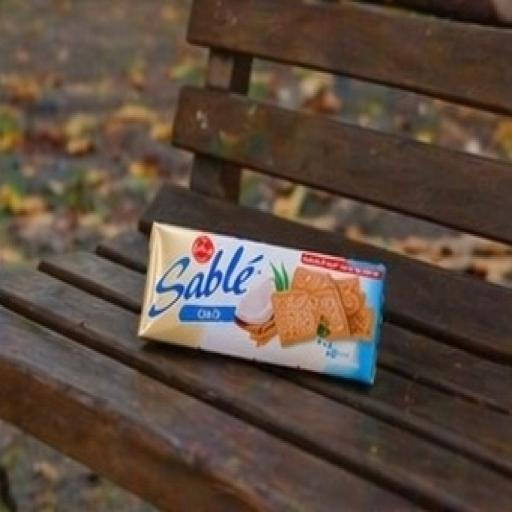sable: (91, 194, 426, 448)
